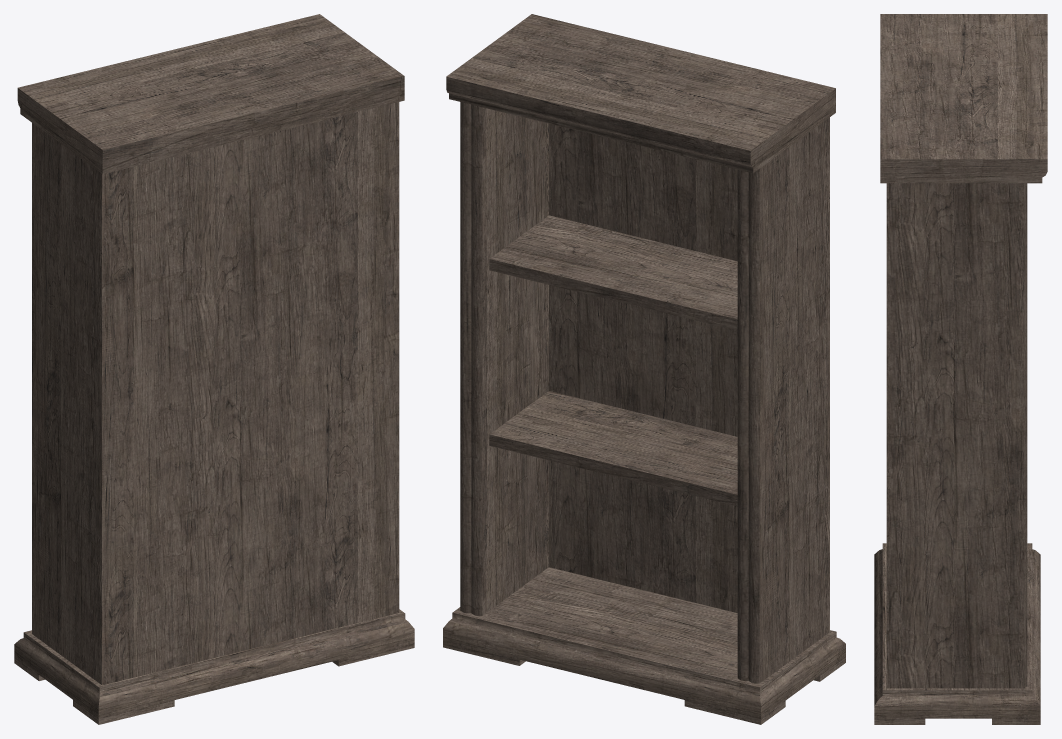
File: mw_bookshelf_02.FBX
3 renders of one model, left to right at view 1: azimuth 30°, elevation 25°; view 2: azimuth 150°, elevation 25°; view 3: azimuth 270°, elevation 25°, orthographic. The views are drawn at different scales.
Parts seen in each view (by area): view 1: mw_bookshelf_02; view 2: mw_bookshelf_02; view 3: mw_bookshelf_02.
Boxes of the visible parts, x1,y1,x2,y2 form: mw_bookshelf_02: (14, 14, 414, 724); mw_bookshelf_02: (443, 14, 845, 724); mw_bookshelf_02: (874, 14, 1047, 724).
Size of the model in its own units: 151 by 261 by 72.75.
